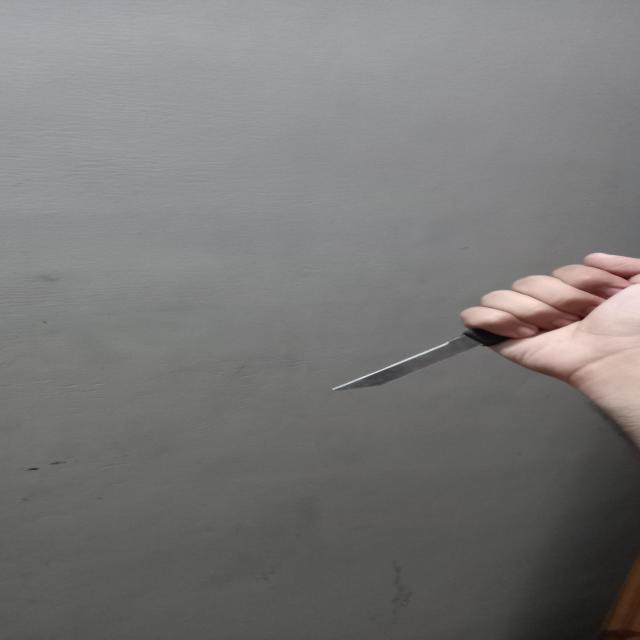Knife: (462, 252, 640, 461), (333, 326, 510, 392)
